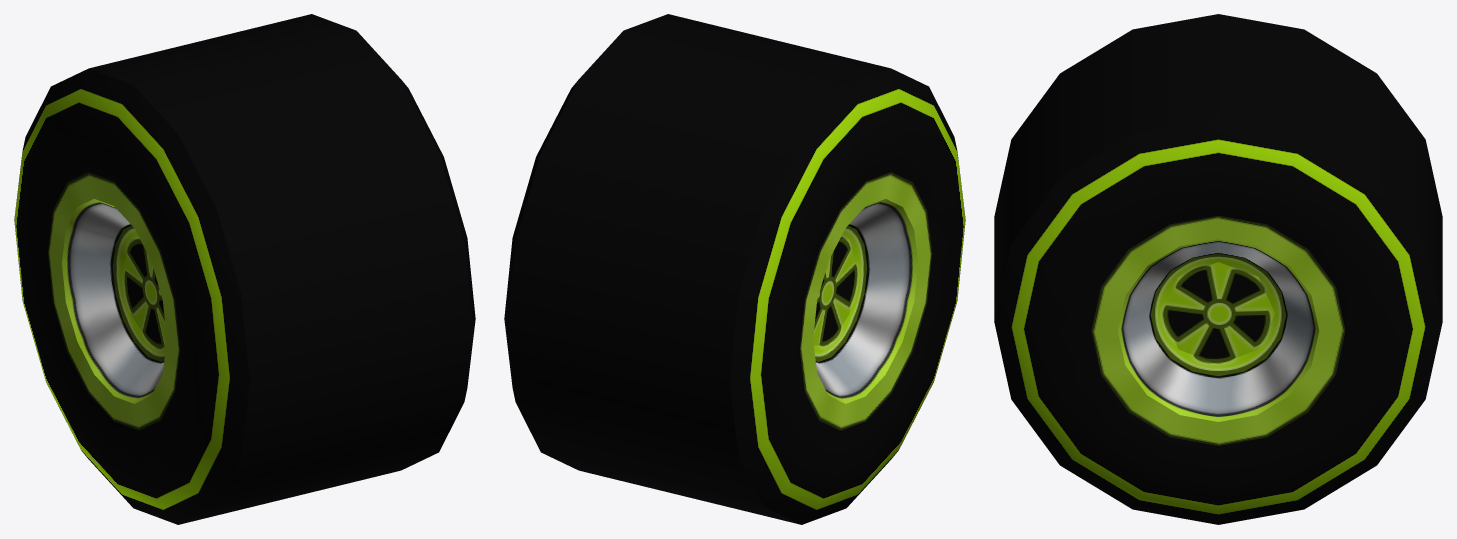
File: wheel_ultimate.FBX
3 renders of one model, left to right at view 1: azimuth 30°, elevation 25°; view 2: azimuth 150°, elevation 25°; view 3: azimuth 270°, elevation 25°, orthographic. The views are drawn at different scales.
Parts seen in each view (by area): view 1: wheel_ulti; view 2: wheel_ulti; view 3: wheel_ulti.
Part boxes in pixels (x1,y1,x2,y2): wheel_ulti: (14, 14, 475, 524); wheel_ulti: (504, 14, 965, 524); wheel_ulti: (994, 14, 1442, 524).
Size of the model in its own units: 0.0932 by 0.1389 by 0.1389.
